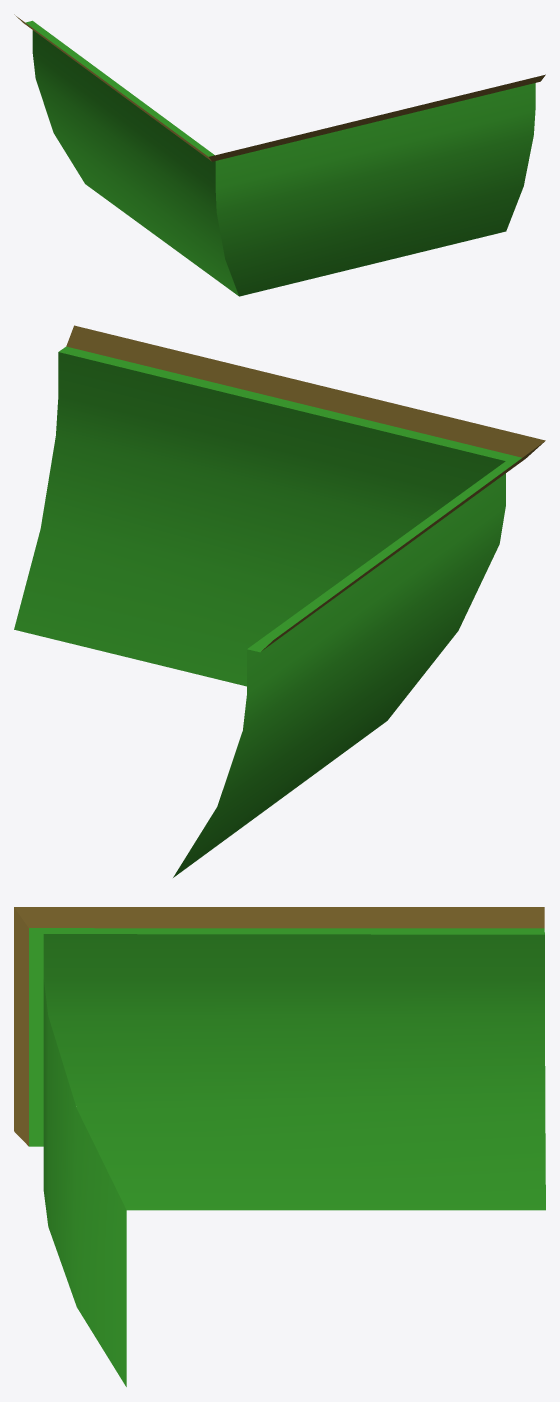
Rendered from ModuleSC_Lfloor_003.FBX.
The picture shows the model from 3 angles, top to bottom: view 1: azimuth 30°, elevation 25°; view 2: azimuth 150°, elevation 25°; view 3: azimuth 270°, elevation 25°; orthographic projection. The views are drawn at different scales.
Parts seen in each view (by area): view 1: ModuleSC_Lfloor_a3; view 2: ModuleSC_Lfloor_a3; view 3: ModuleSC_Lfloor_a3.
Boxes of the visible parts, x1,y1,x2,y2 form: ModuleSC_Lfloor_a3: (14,14,545,296); ModuleSC_Lfloor_a3: (14,325,545,877); ModuleSC_Lfloor_a3: (14,907,545,1386).
Bounding box in the file's own units: 19.78 × 10.46 × 19.74.
